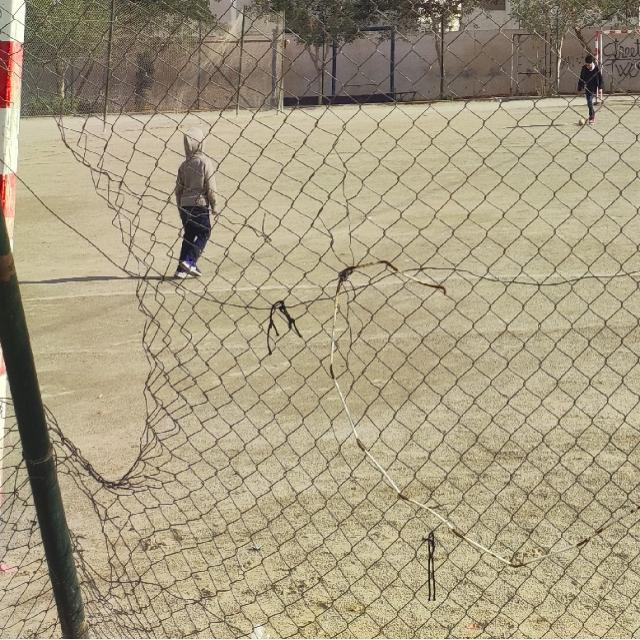fence line: (2, 97, 158, 484)
